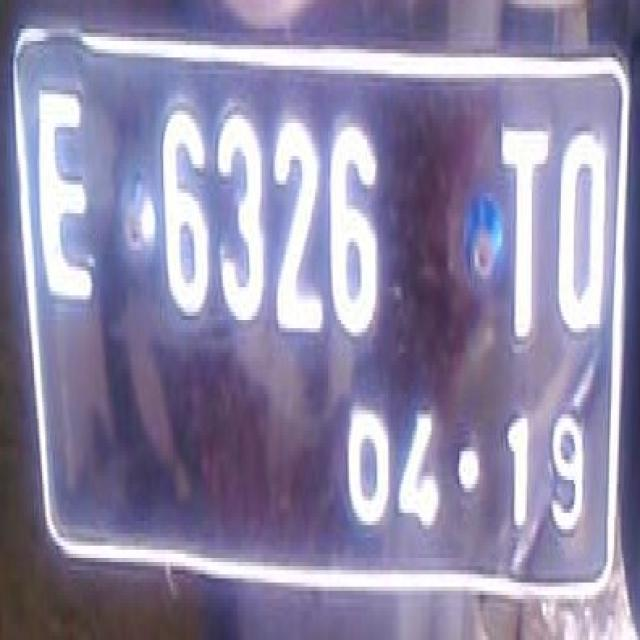plate: (9, 16, 626, 595)
